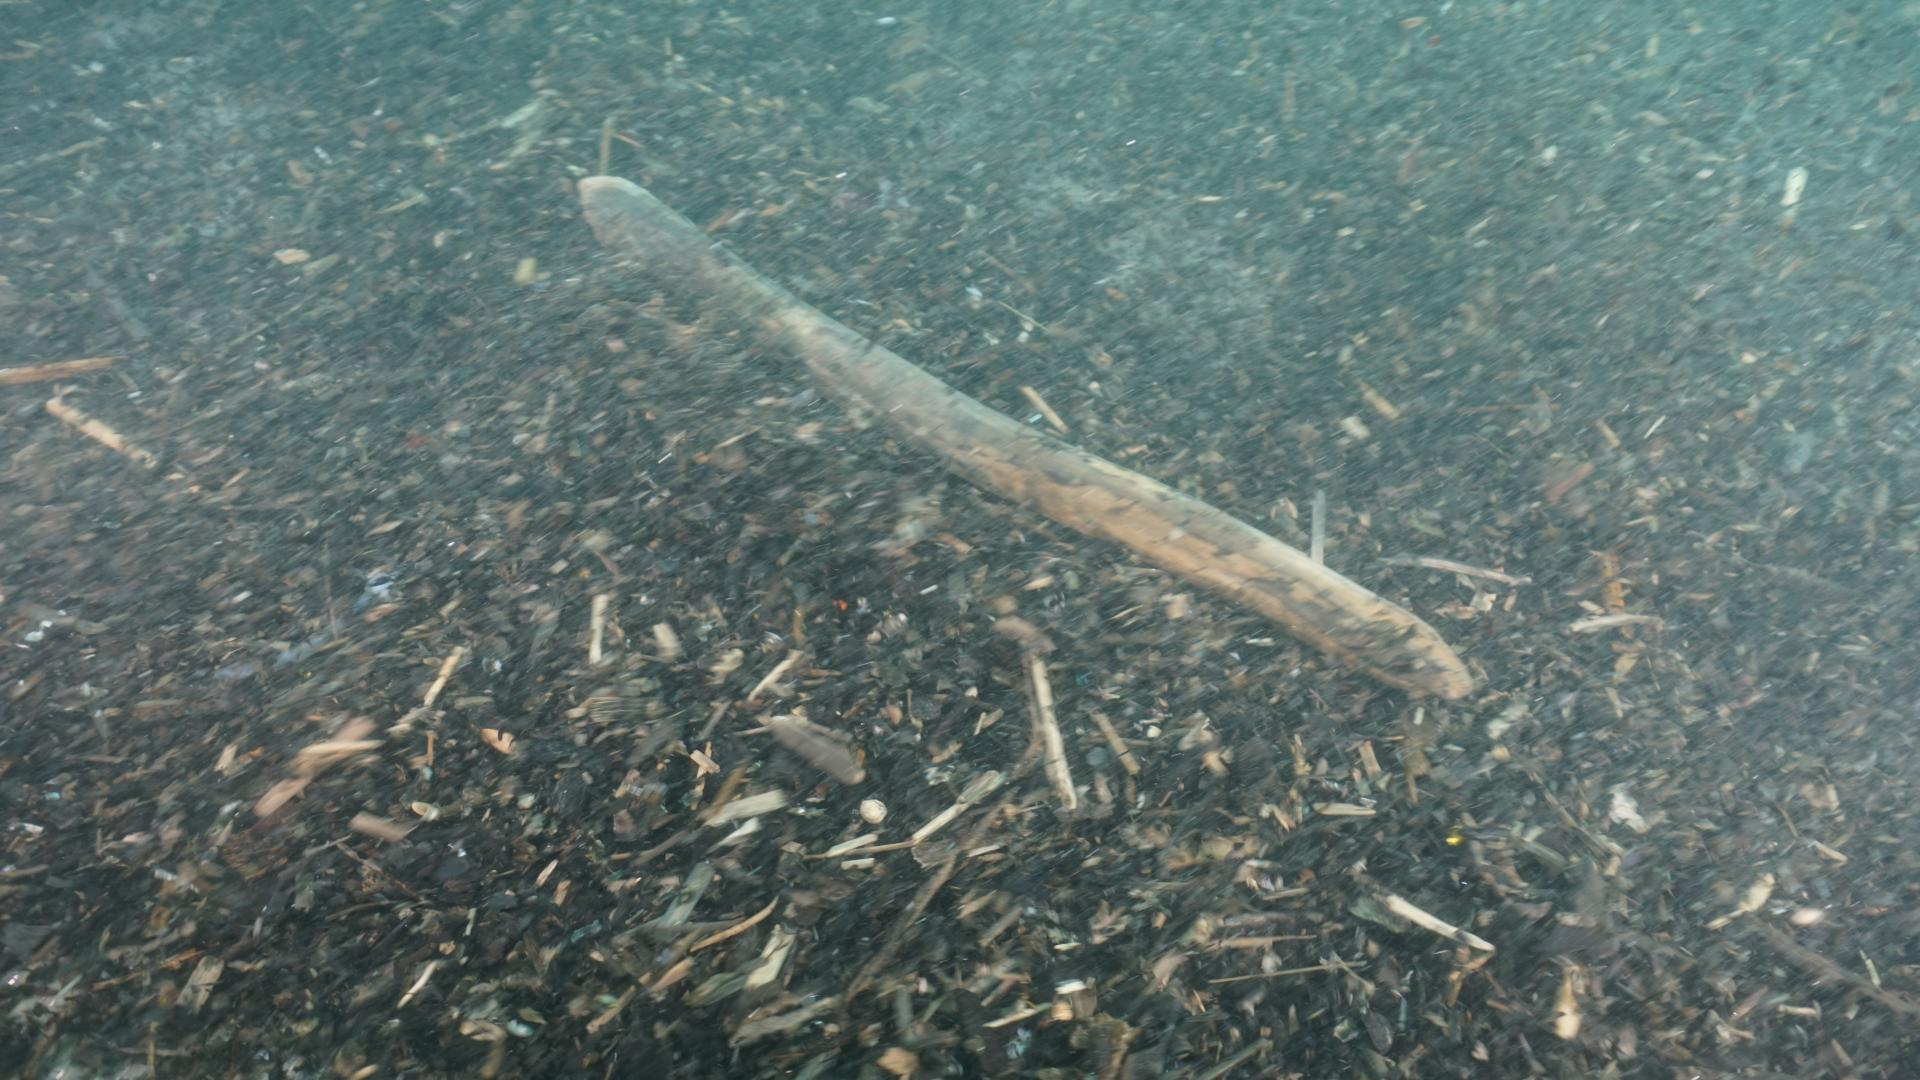wood: (574, 171, 1473, 705)
